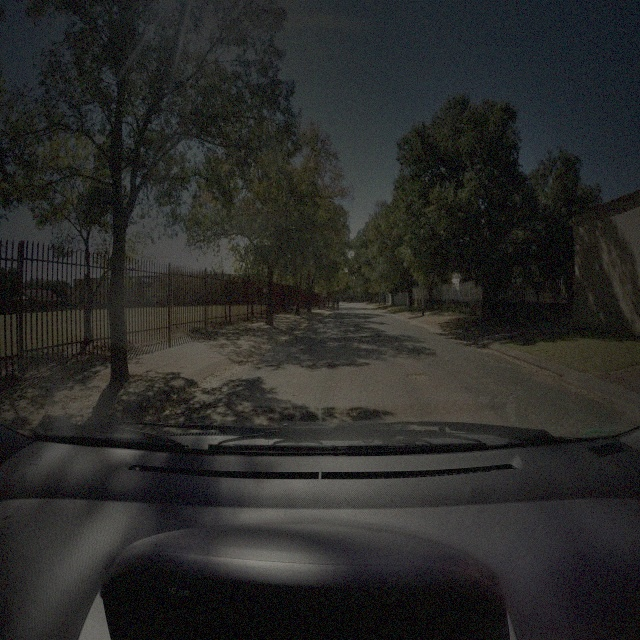pothole: (407, 370, 431, 383)
